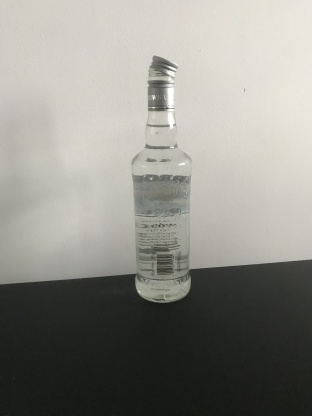nakretka: (145, 52, 179, 112)
